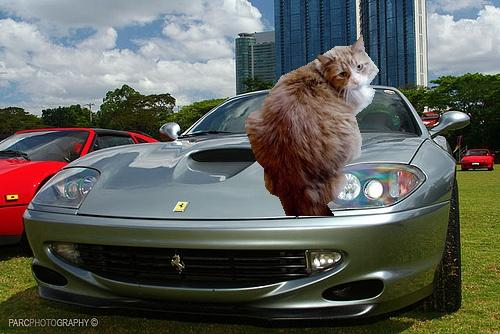tampered: (245, 36, 379, 216)
